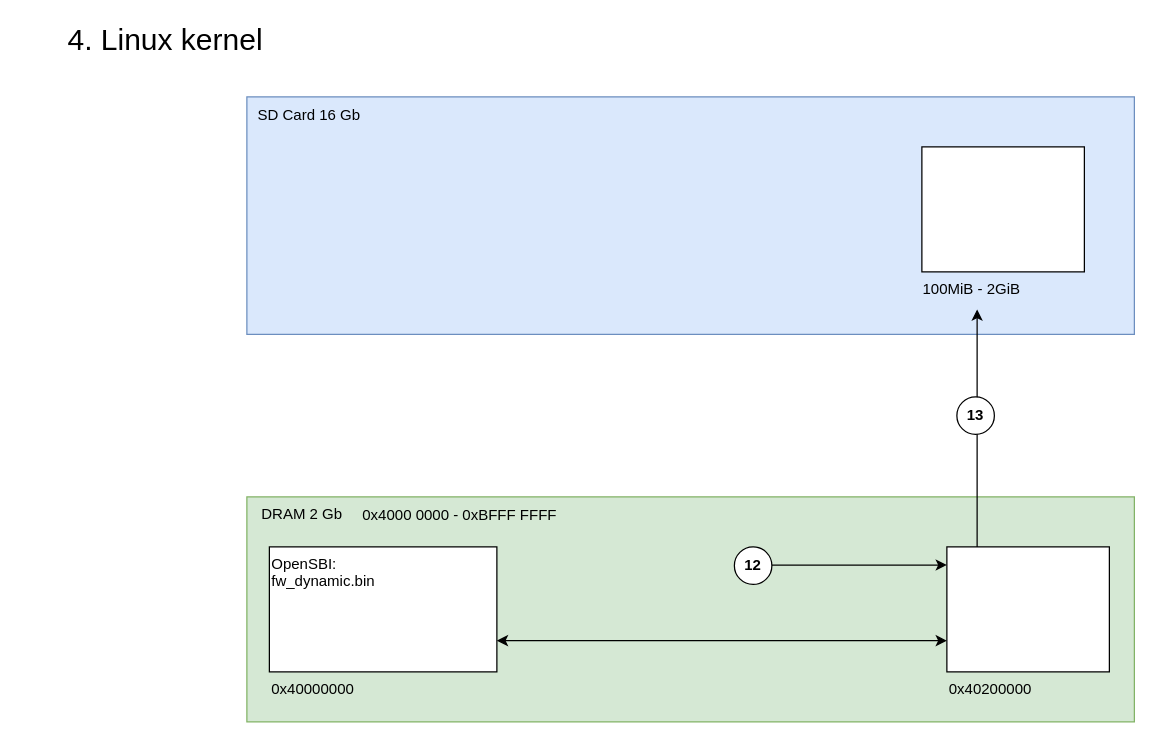
This 1156x744 diagram has some shape labels left out. Here are the shapes that lost their labels. From the top down, the centre of each, then its label:
point 1002,209: rootfs /bin /etc /home ...
point 1027,609: Image.gz
